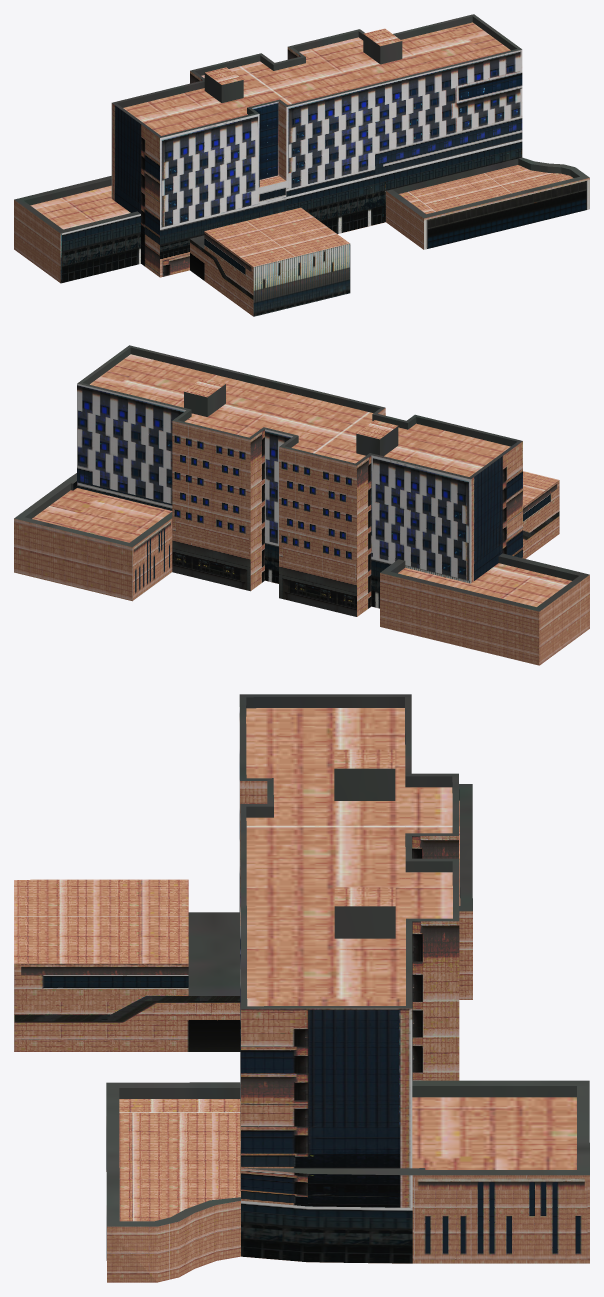
3 views of the same model, one above another, from view 1: azimuth 30°, elevation 25°; view 2: azimuth 150°, elevation 25°; view 3: azimuth 270°, elevation 25° (orthographic). The views are drawn at different scales.
Parts seen in each view (by area): view 1: MainBuilding; view 2: MainBuilding; view 3: MainBuilding.
Part boxes in pixels (x1,y1,x2,y2): MainBuilding: [14, 14, 589, 316]; MainBuilding: [14, 345, 589, 665]; MainBuilding: [14, 694, 589, 1282].
Size of the model in its own units: 1.21 by 0.3717 by 0.721.
Materials: 1 (1 with a texture image).
